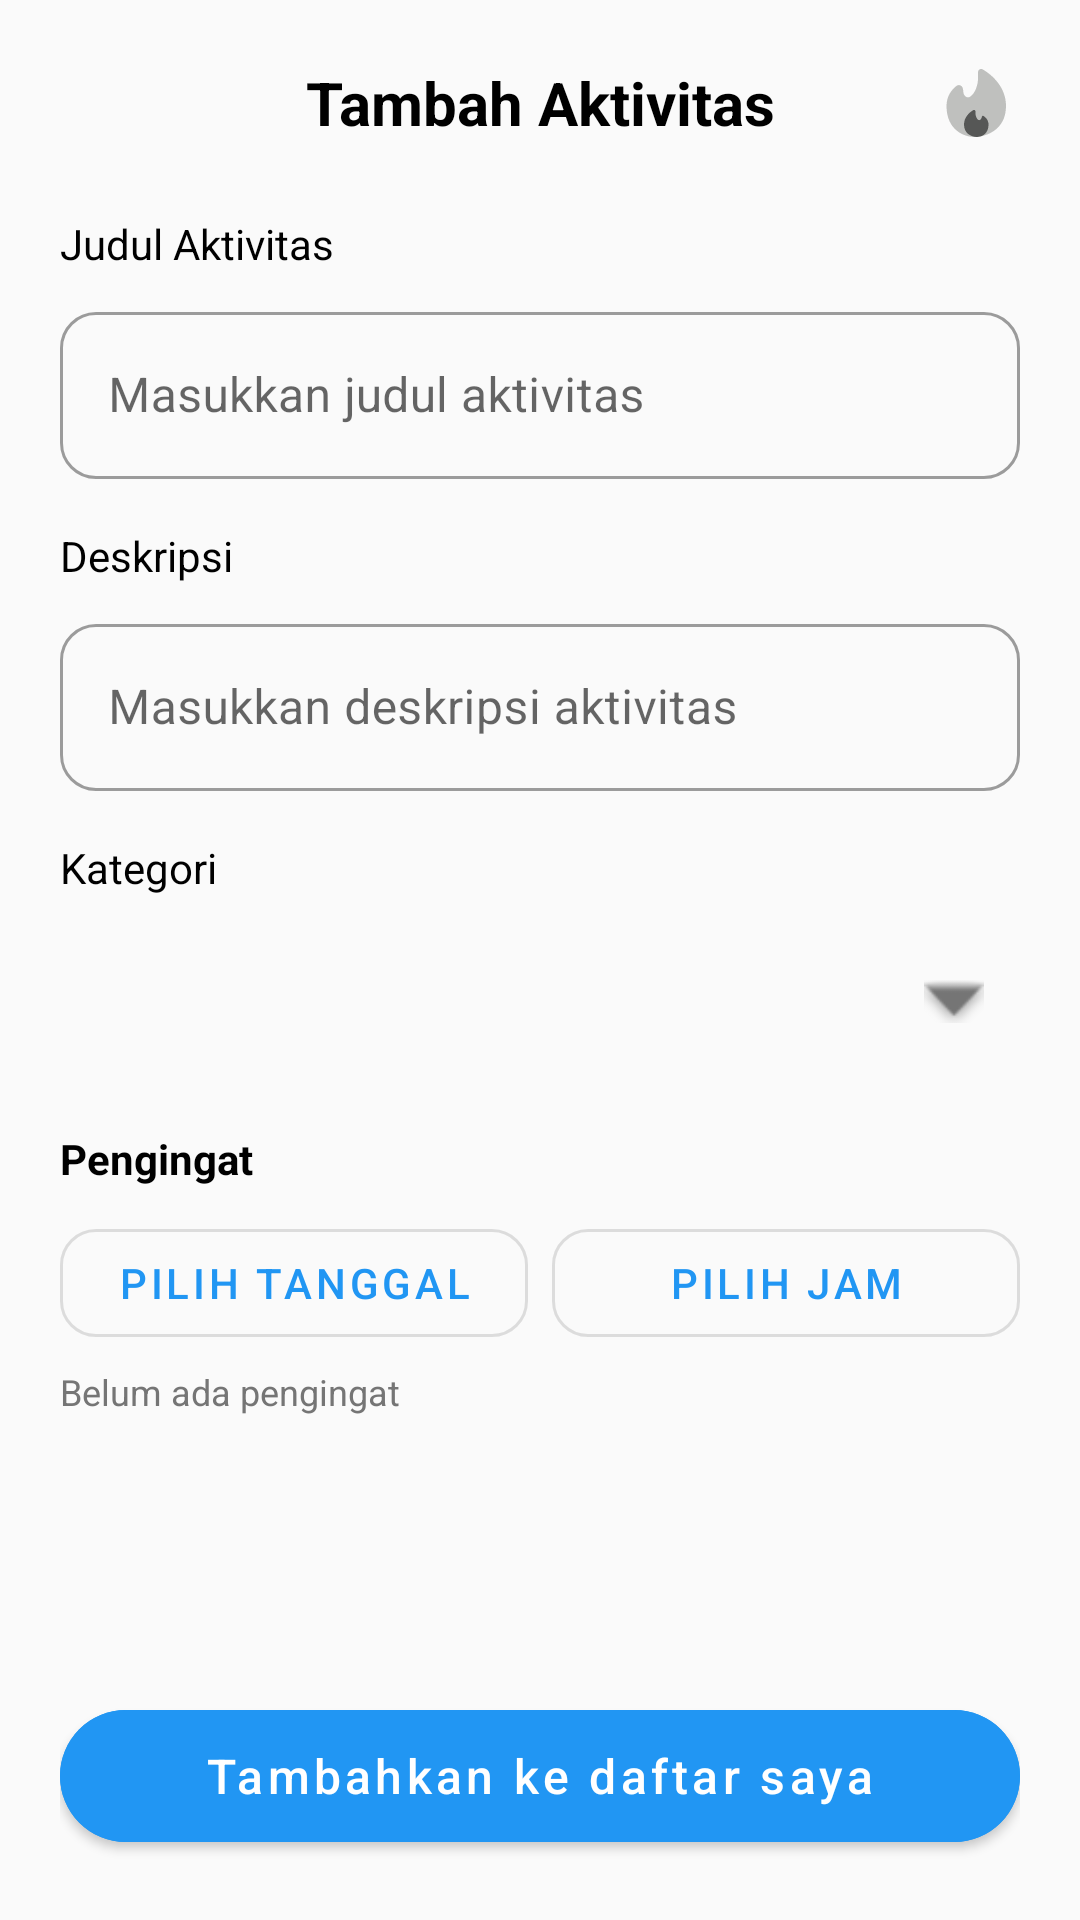

Locate icon controls on the screen. Image size 1080 x 1920, boxes as (x1, y1, x2, y2).
arrow down float: (924, 982, 984, 1018)
